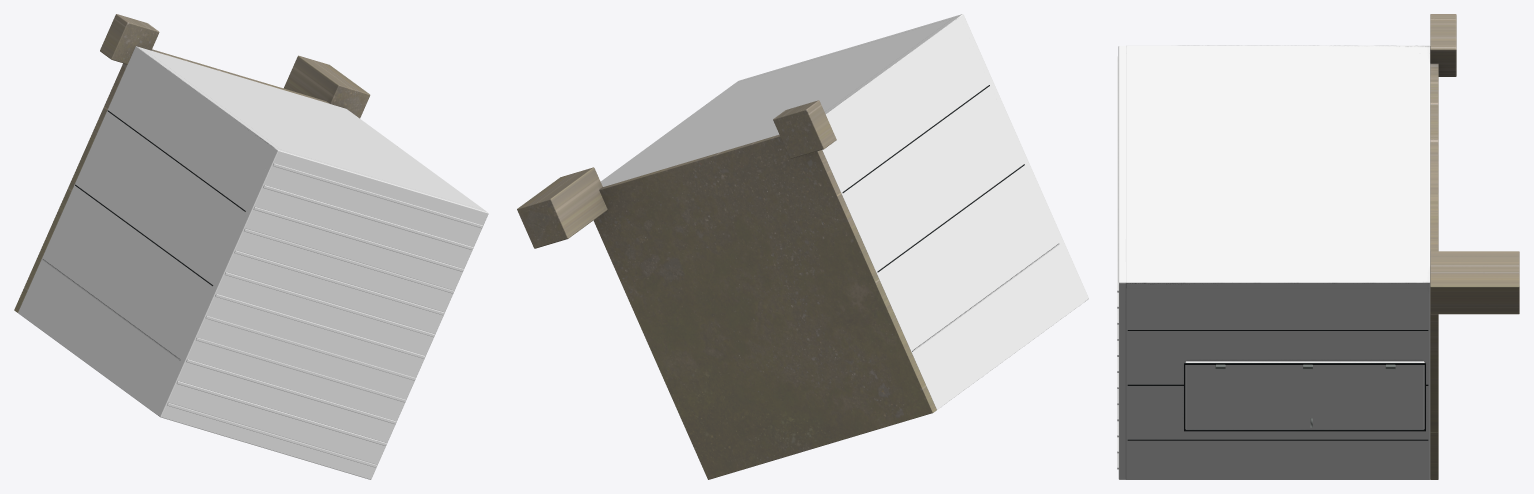
File: white_unit_north.obj
The picture shows the model from 3 angles, left to right: view 1: azimuth 30°, elevation 25°; view 2: azimuth 150°, elevation 25°; view 3: azimuth 270°, elevation 25°; orthographic projection. The views are drawn at different scales.
Visible parts, largest first — view 1: white_unit_north; view 2: white_unit_north; view 3: white_unit_north.
Boxes of the visible parts, x1=… form: white_unit_north: x1=14, y1=14, x2=488, y2=479; white_unit_north: x1=517, y1=14, x2=1088, y2=479; white_unit_north: x1=1117, y1=14, x2=1519, y2=479.
Size of the model in its own units: 3.71 by 3.8 by 3.36.
Materials: 1 (1 with a texture image).
